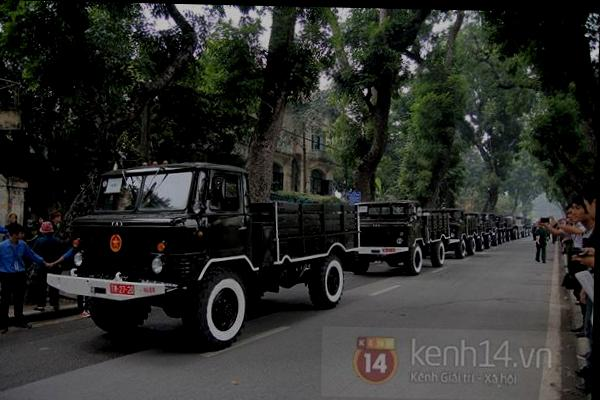License_Plate: (106, 281, 139, 297)
